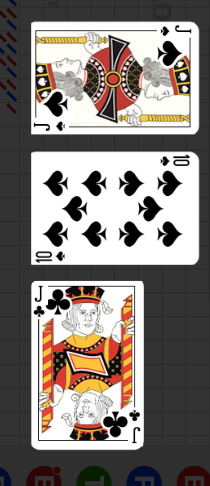10S: (157, 154, 191, 168), (34, 249, 68, 262)
JC: (127, 408, 143, 445)
JS: (33, 89, 80, 133), (154, 22, 200, 66)
